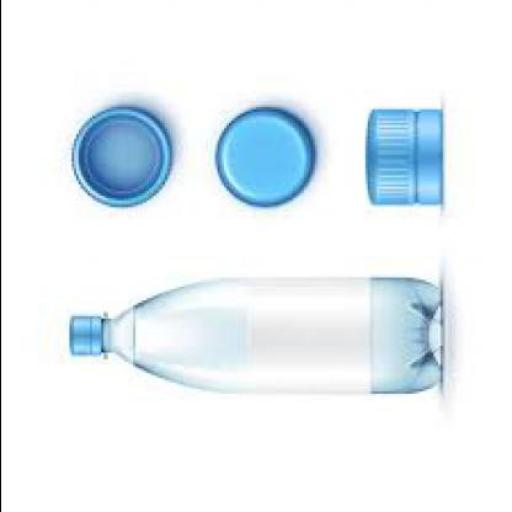plastic: (68, 276, 439, 394), (68, 103, 168, 205), (211, 106, 312, 205), (364, 106, 440, 202), (66, 312, 103, 354)
